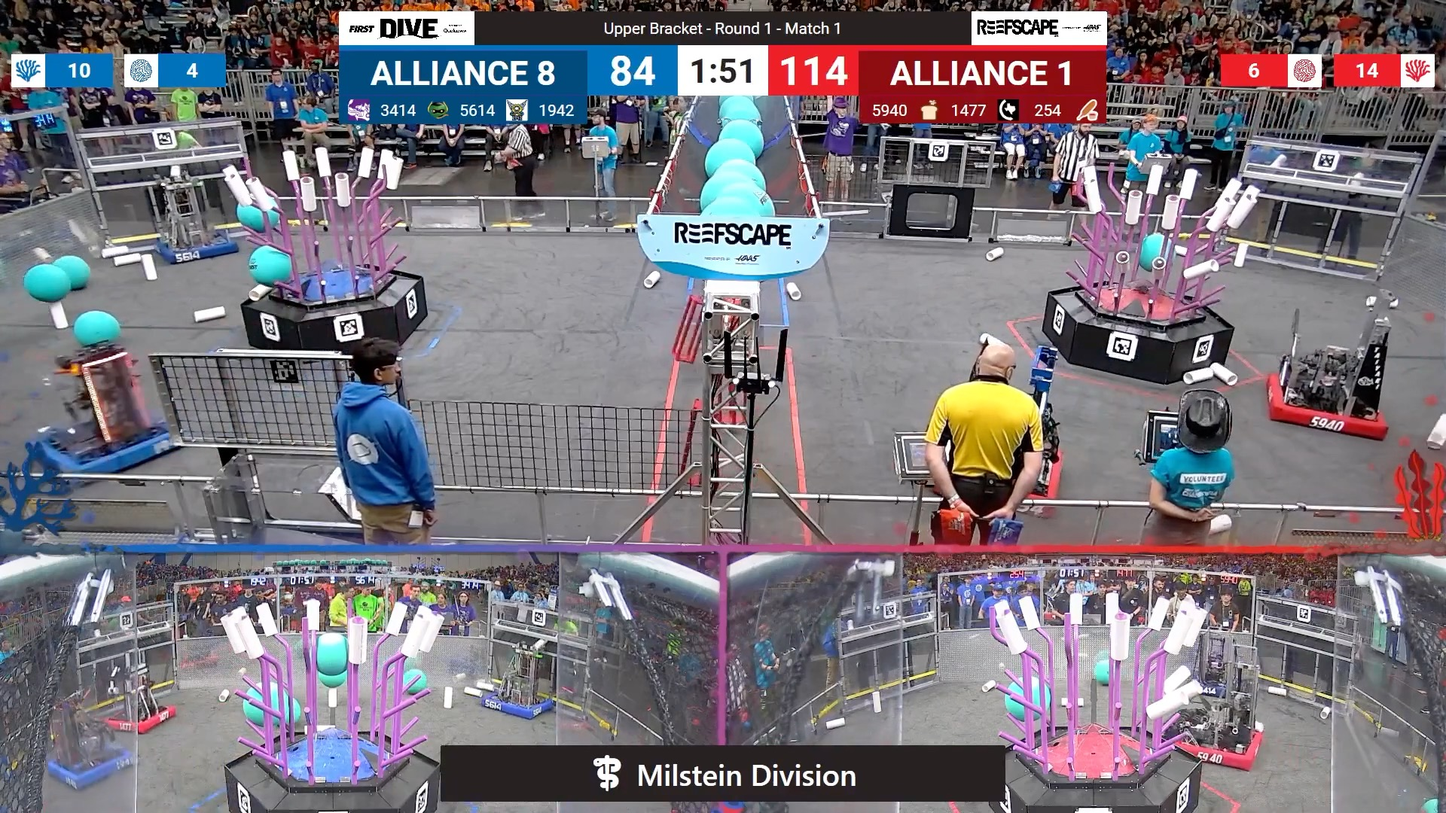bumpers: (19, 420, 185, 486), (1257, 367, 1399, 443), (946, 431, 1071, 512), (44, 736, 148, 796), (1160, 717, 1271, 773), (91, 701, 182, 741), (478, 687, 562, 722), (151, 244, 246, 269)
